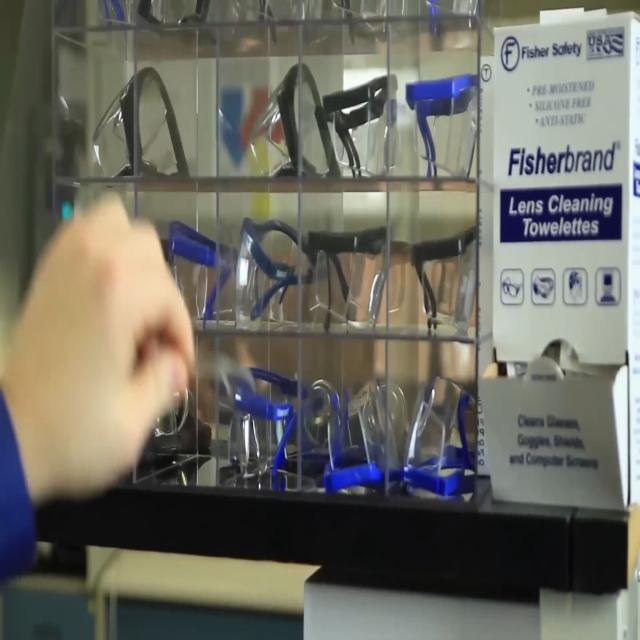googles: (90, 52, 195, 189), (246, 55, 345, 193), (400, 358, 484, 514), (208, 361, 301, 501), (315, 369, 404, 497), (401, 65, 485, 196), (268, 348, 337, 498), (307, 215, 396, 327), (314, 70, 397, 187), (228, 205, 304, 332), (409, 210, 483, 334), (160, 207, 229, 316), (151, 383, 213, 493)
